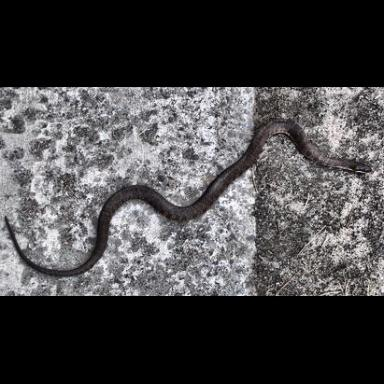snake: (29, 120, 374, 277)
